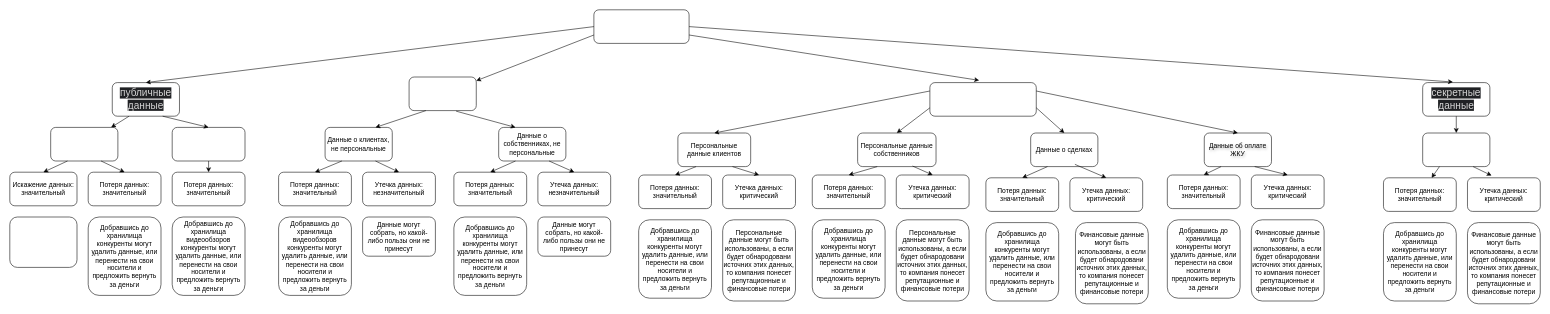
This 1550x314 diagram has some shape labels left out. The centre of each missing label's shape, as x and y in pixels:
"Безопасность данных" belongs at point (641, 26).
"внутренние данные" belongs at point (442, 93).
"Данные для проведения онлайн-тура" belongs at point (208, 144).
"Информация о недвижимости на витрине продаж" belongs at point (84, 144).
"Коммерческие данные" belongs at point (1456, 149).
"конфиденциальные данные" belongs at point (982, 99).
"Могут изменить условия и цены недвижимости, и попробовать купить дешевле" belongs at point (43, 241).
